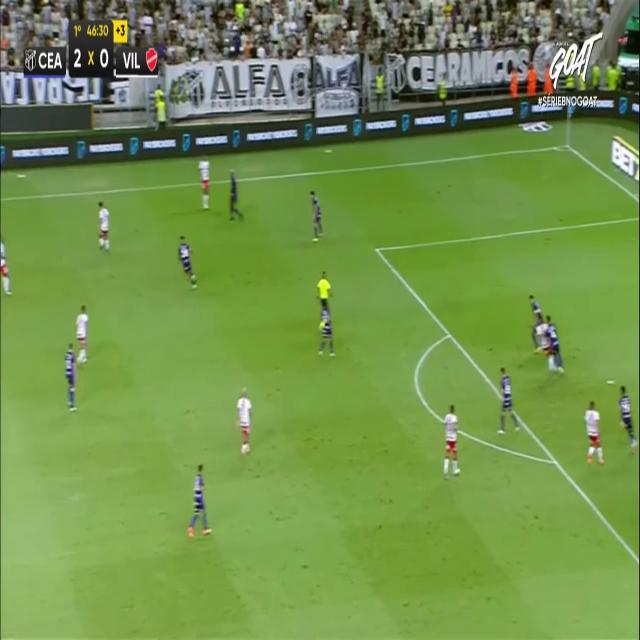player: (187, 463, 212, 537), (497, 365, 521, 434), (442, 404, 460, 479), (584, 399, 604, 465), (547, 308, 564, 384), (618, 384, 636, 452), (236, 386, 252, 453), (527, 295, 546, 351), (177, 235, 197, 288), (64, 341, 77, 411), (75, 303, 89, 363), (322, 304, 337, 360), (228, 168, 243, 220), (309, 189, 323, 242), (198, 157, 210, 209), (98, 200, 110, 252)
referee: (318, 267, 333, 318)
